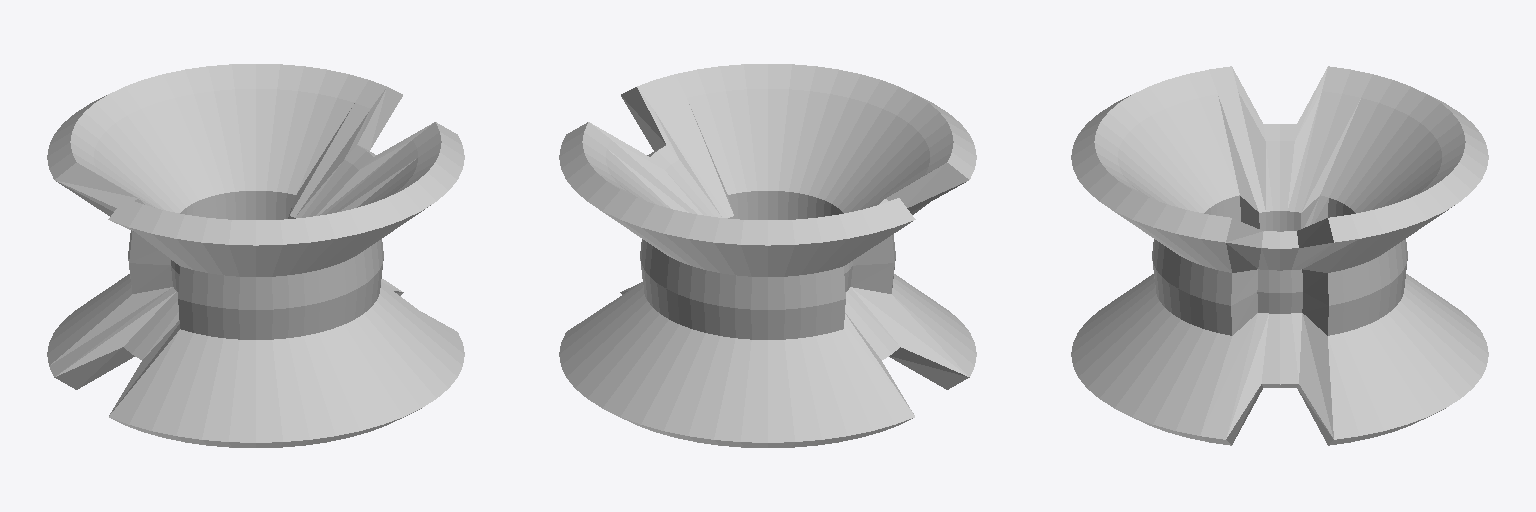
File: smaller.obj
3 renders of one model, left to right at view 1: azimuth 30°, elevation 25°; view 2: azimuth 150°, elevation 25°; view 3: azimuth 270°, elevation 25°, orthographic.
Visible parts, largest first — view 1: Torus; view 2: Torus; view 3: Torus.
Part boxes in pixels (bbox=[...]): Torus: bbox=[47, 64, 464, 447]; Torus: bbox=[559, 64, 976, 447]; Torus: bbox=[1071, 66, 1488, 445].
Bounding box in the file's own units: 0.8838 × 0.5508 × 0.915.